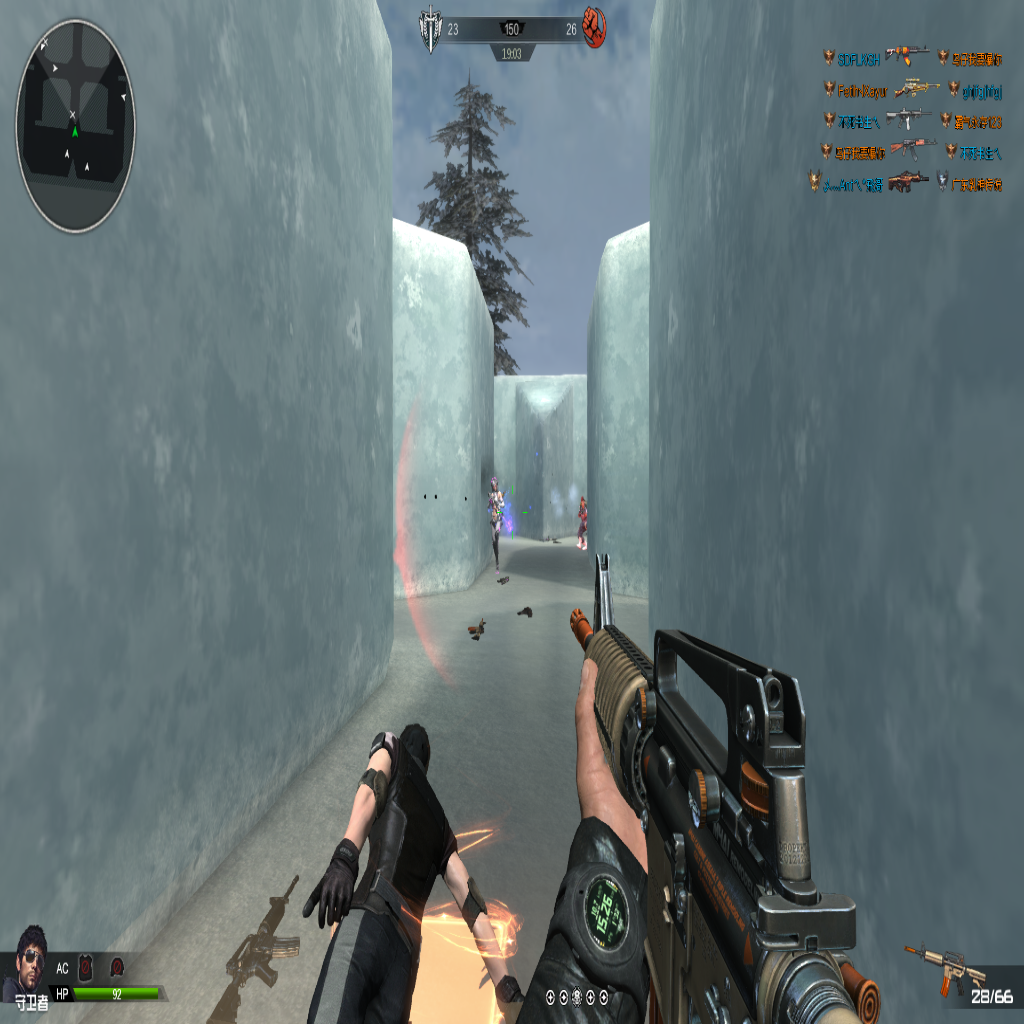tt: (489, 474, 508, 579), (576, 495, 587, 548)
